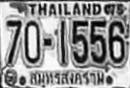0: (25, 20, 41, 64)
1: (58, 20, 66, 60)
5: (72, 20, 88, 62), (90, 20, 106, 62)
6: (108, 20, 124, 62)
7: (6, 18, 22, 64)
SKM: (29, 68, 105, 88)
